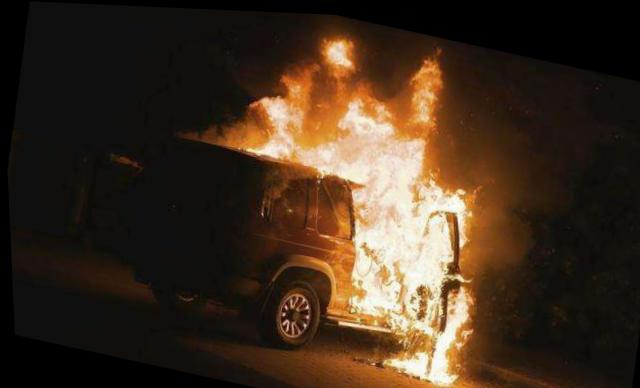fire: (167, 10, 517, 387)
